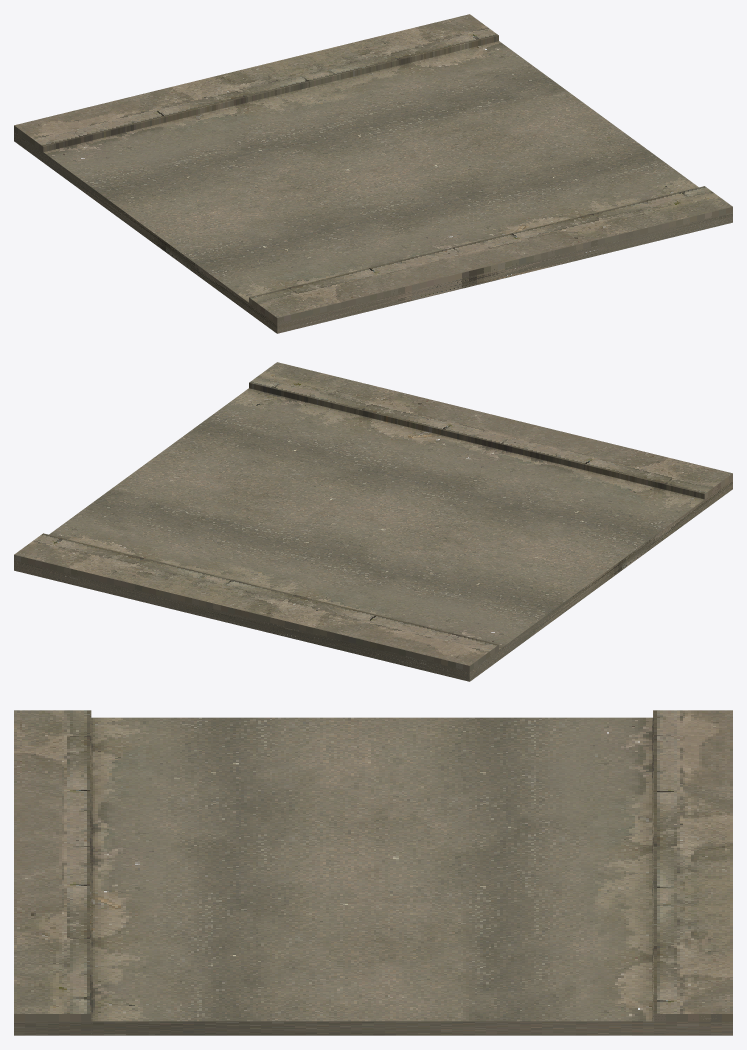
Rendered from road.glb.
3 renders of one model, top to bottom at view 1: azimuth 30°, elevation 25°; view 2: azimuth 150°, elevation 25°; view 3: azimuth 270°, elevation 25°, orthographic. The views are drawn at different scales.
Visible parts, largest first — view 1: Cube; view 2: Cube; view 3: Cube.
Boxes of the visible parts, left/top/right/bottom form: Cube: left=14, top=14, right=732, bottom=333; Cube: left=14, top=362, right=732, bottom=681; Cube: left=14, top=710, right=732, bottom=1035.
Bounding box in the file's own units: 20.82 × 0.6939 × 20.82.
1 material, 1 textured.
